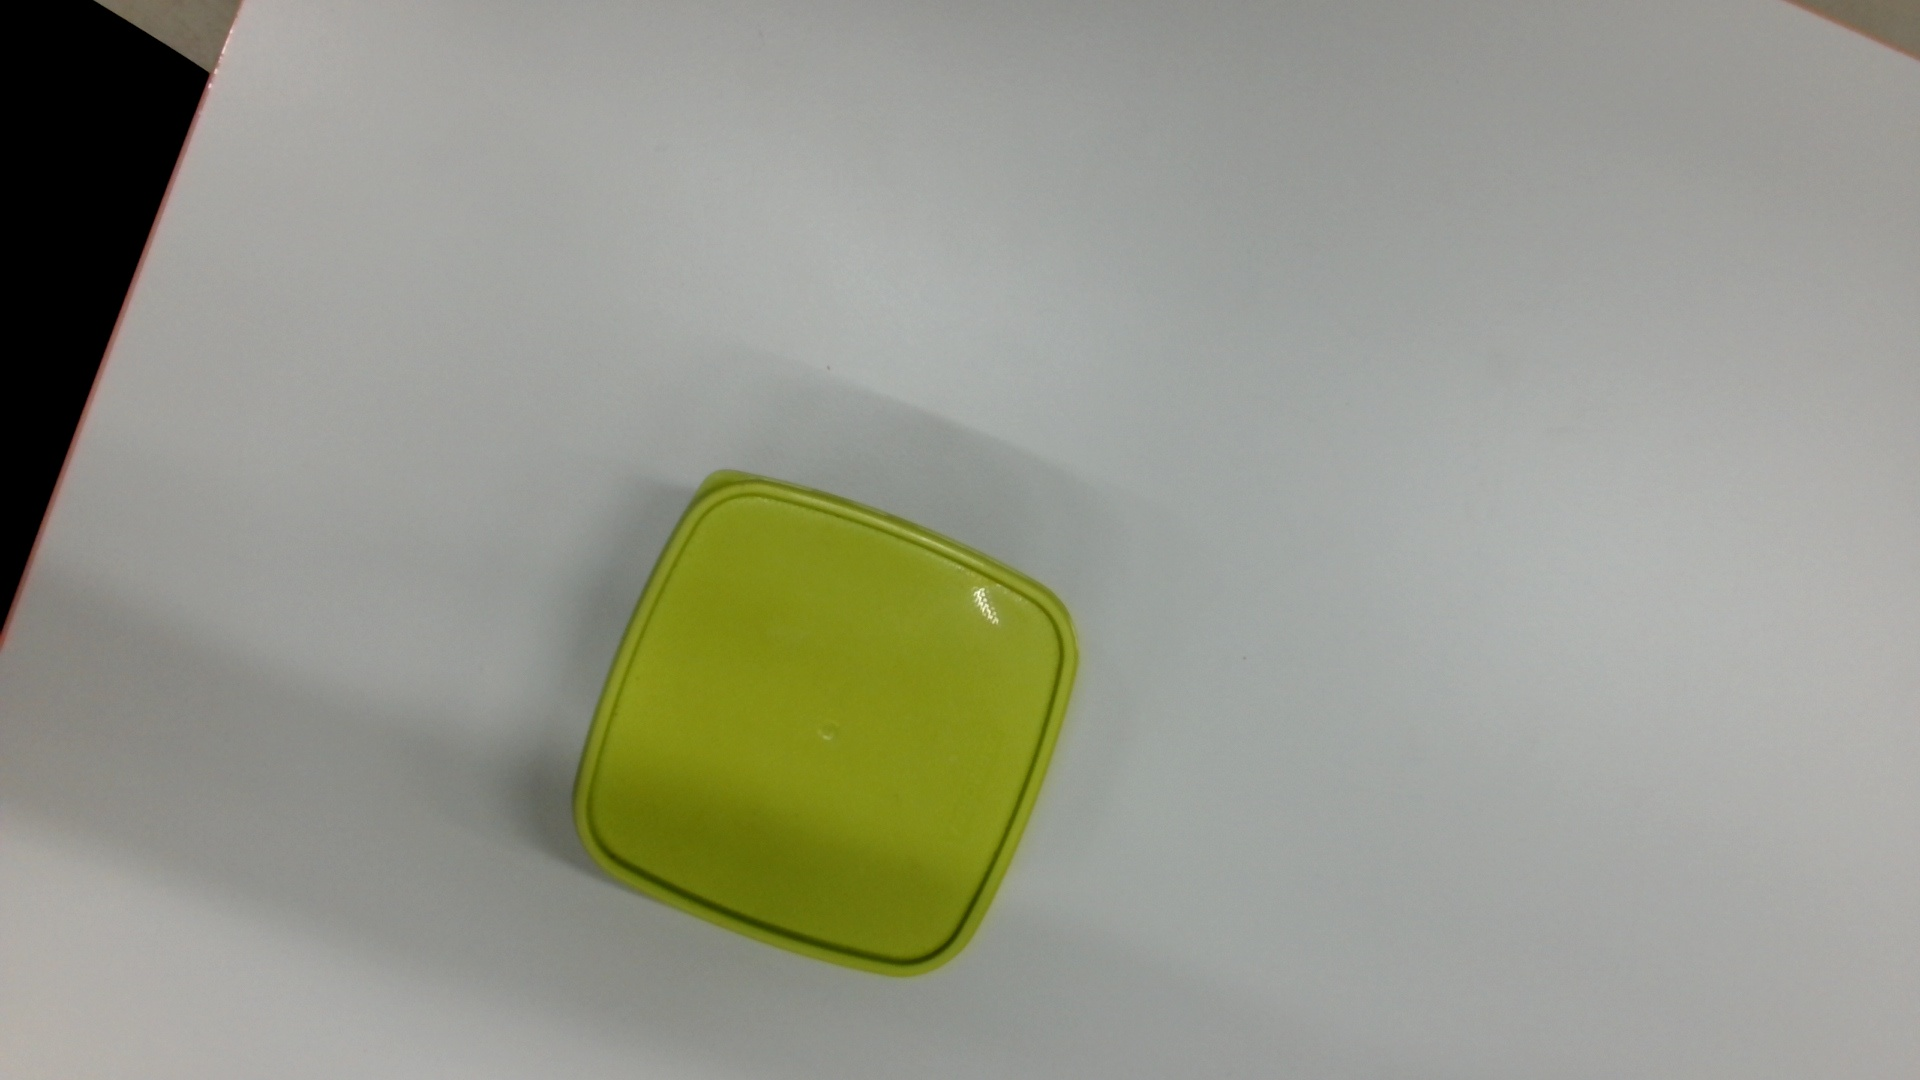Box: (560, 462, 1088, 985)
